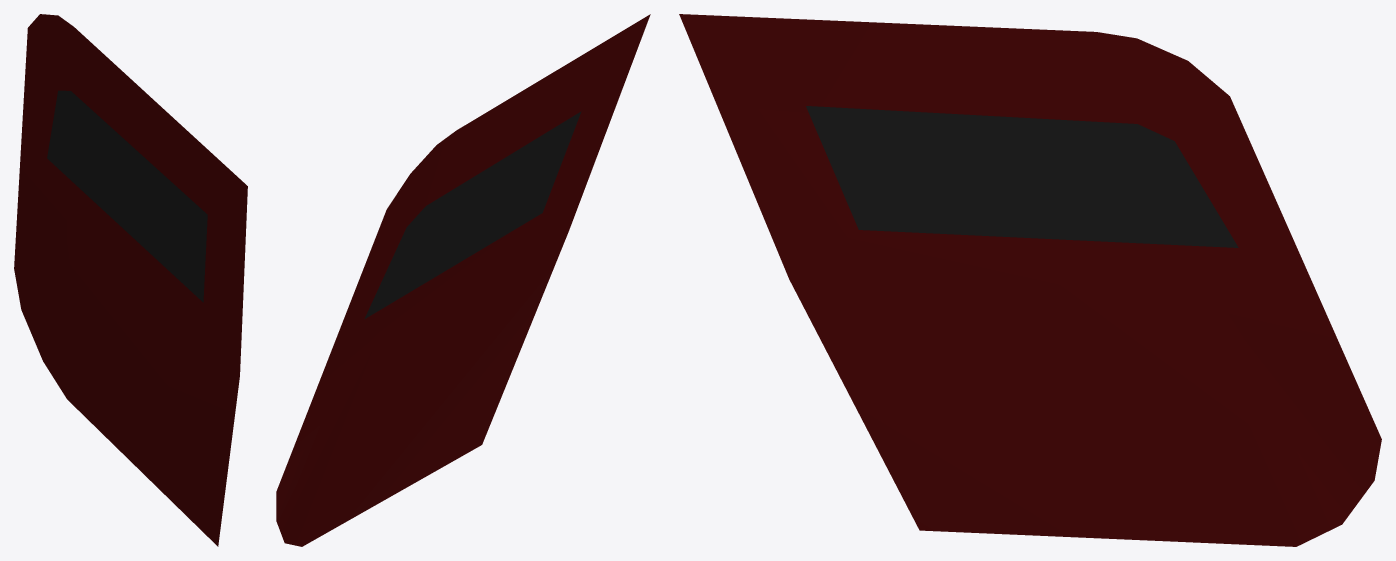
The picture shows the model from 3 angles, left to right: view 1: azimuth 30°, elevation 25°; view 2: azimuth 150°, elevation 25°; view 3: azimuth 270°, elevation 25°; orthographic projection. The views are drawn at different scales.
Visible parts, largest first — view 1: SubMesh0010; view 2: SubMesh0010; view 3: SubMesh0010.
Boxes of the visible parts, left/top/right/bottom form: SubMesh0010: left=14, top=14, right=247, bottom=546; SubMesh0010: left=276, top=14, right=650, bottom=546; SubMesh0010: left=679, top=14, right=1381, bottom=546.
Bounding box in the file's own units: 0.0333 × 0.1184 × 0.1597.
